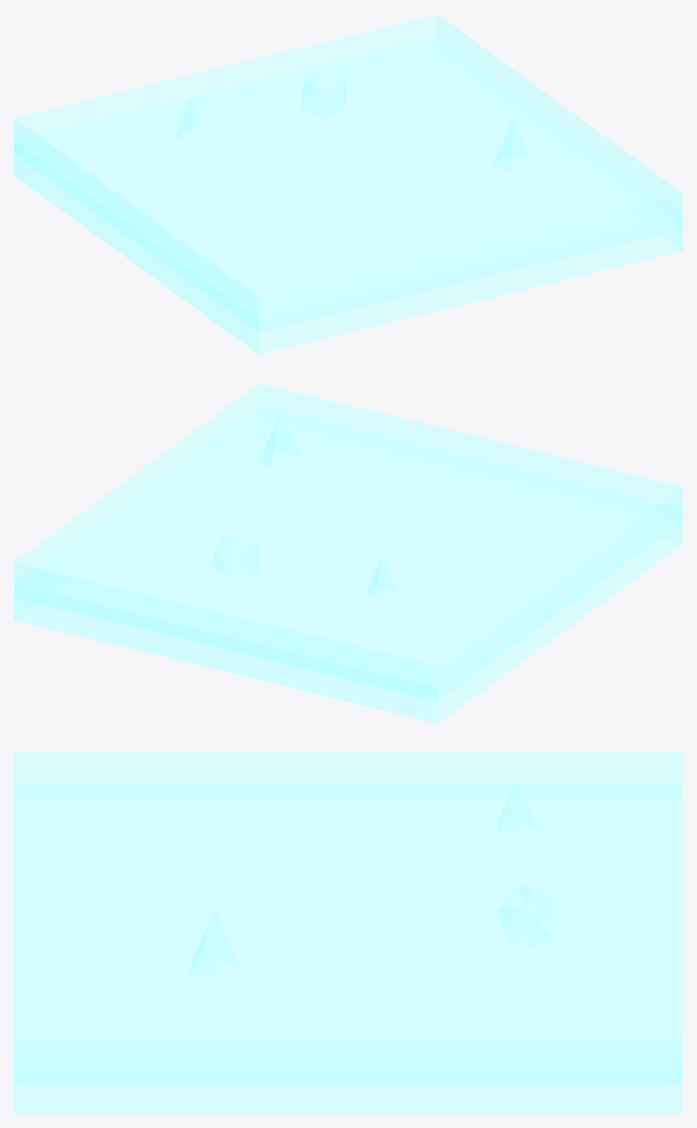
Rendered from GH_Tile_GroundTile.fbx.
3 views of the same model, one above another, from view 1: azimuth 30°, elevation 25°; view 2: azimuth 150°, elevation 25°; view 3: azimuth 270°, elevation 25° (orthographic). The views are drawn at different scales.
Parts seen in each view (by area): view 1: SM_Tile_GroundTile; view 2: SM_Tile_GroundTile; view 3: SM_Tile_GroundTile.
Boxes of the visible parts, box(x1,y1,x2,y2) form: SM_Tile_GroundTile: box(14, 14, 682, 354); SM_Tile_GroundTile: box(14, 383, 682, 723); SM_Tile_GroundTile: box(14, 752, 682, 1113).
Bounding box in the file's own units: 2 × 0.47 × 2.
